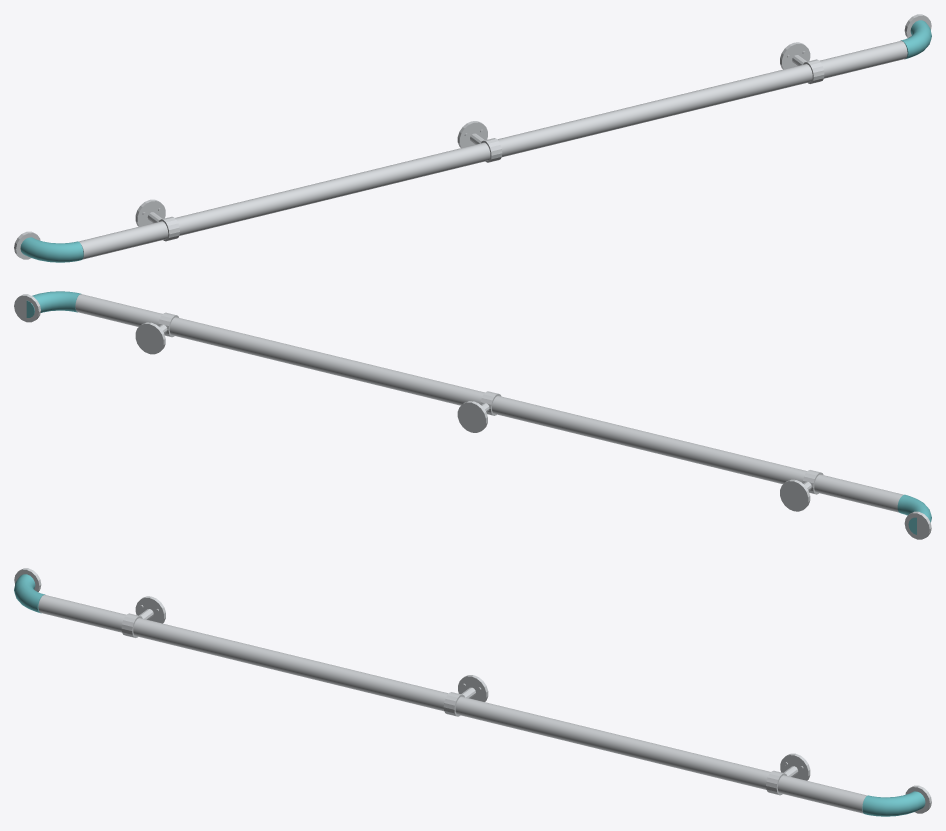
File: wall_bar_v1.fbx
The picture shows the model from 3 angles, top to bottom: view 1: azimuth 30°, elevation 25°; view 2: azimuth 150°, elevation 25°; view 3: azimuth 330°, elevation 25°; orthographic projection.
Parts seen in each view (by area): view 1: 01_Handrail_Straight_Intact_Mesh; view 2: 01_Handrail_Straight_Intact_Mesh; view 3: 01_Handrail_Straight_Intact_Mesh.
Boxes of the visible parts, left/top/right/bottom form: 01_Handrail_Straight_Intact_Mesh: left=14, top=14, right=931, bottom=262; 01_Handrail_Straight_Intact_Mesh: left=14, top=291, right=931, bottom=539; 01_Handrail_Straight_Intact_Mesh: left=14, top=568, right=931, bottom=816.
Bounding box in the file's own units: 205 × 6.4 × 9.83.
